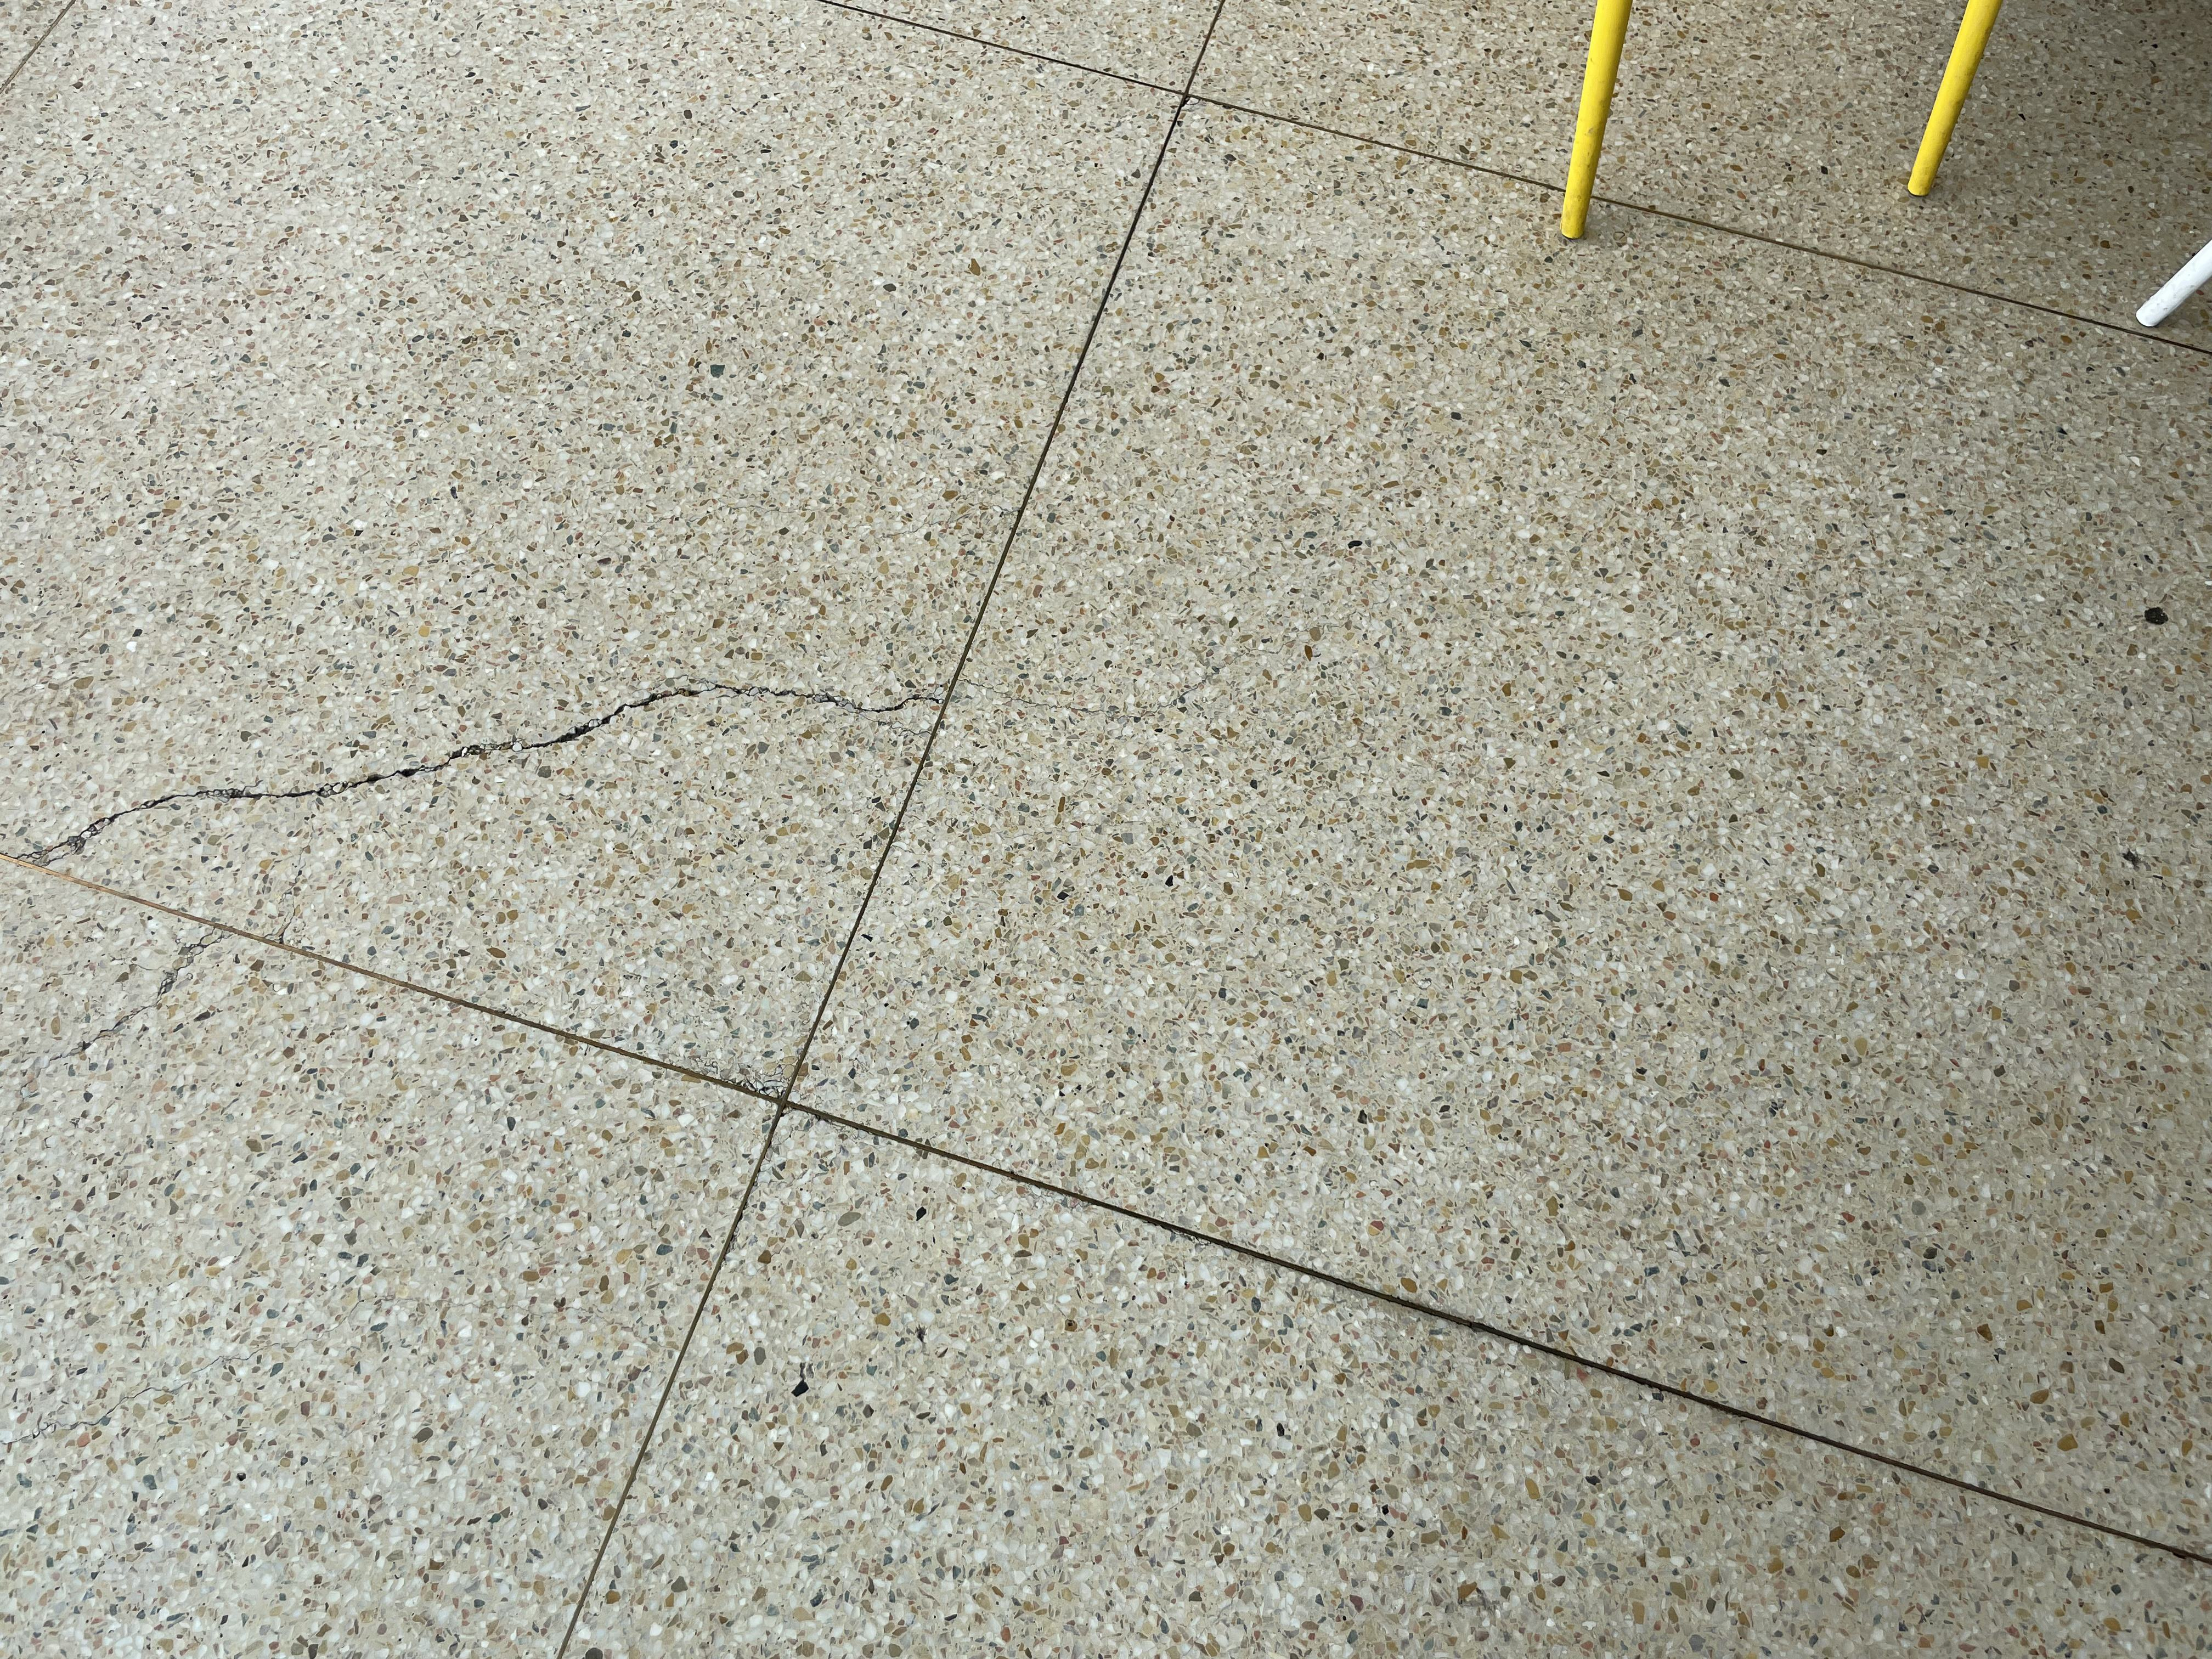Crack: (12, 685, 942, 871), (954, 592, 1393, 721), (17, 929, 233, 1105)
